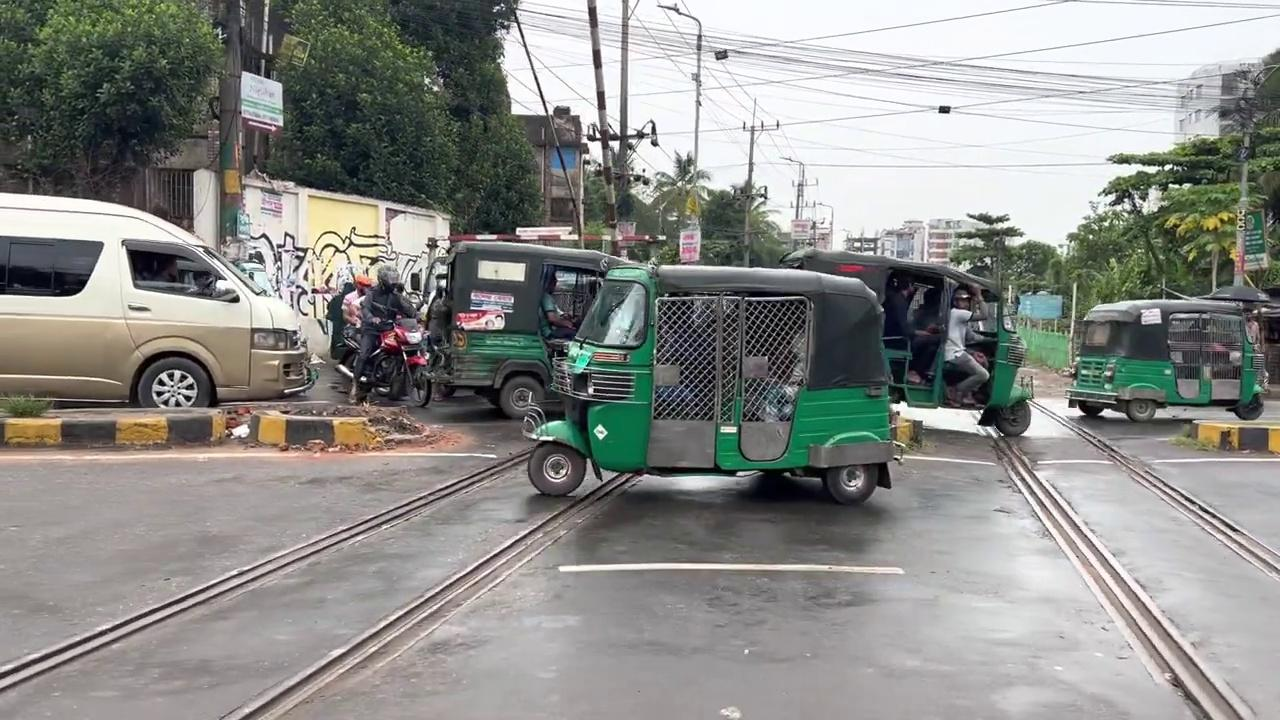Curb: (335, 312, 431, 406)
Fence: (941, 284, 994, 406), (539, 269, 576, 337)
Garbage: (657, 1, 702, 262), (585, 1, 619, 255), (216, 0, 245, 259)
Motorcycle: (981, 419, 1246, 717)
Railroad-crossing: (264, 0, 544, 236), (0, 0, 225, 201), (947, 210, 1024, 289)
Rickshaw: (519, 260, 898, 504), (778, 246, 1034, 436), (420, 235, 631, 419), (1064, 294, 1267, 422)
